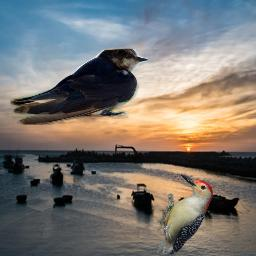Swallow: (10, 48, 148, 125)
Woodpecker: (157, 174, 213, 254)
